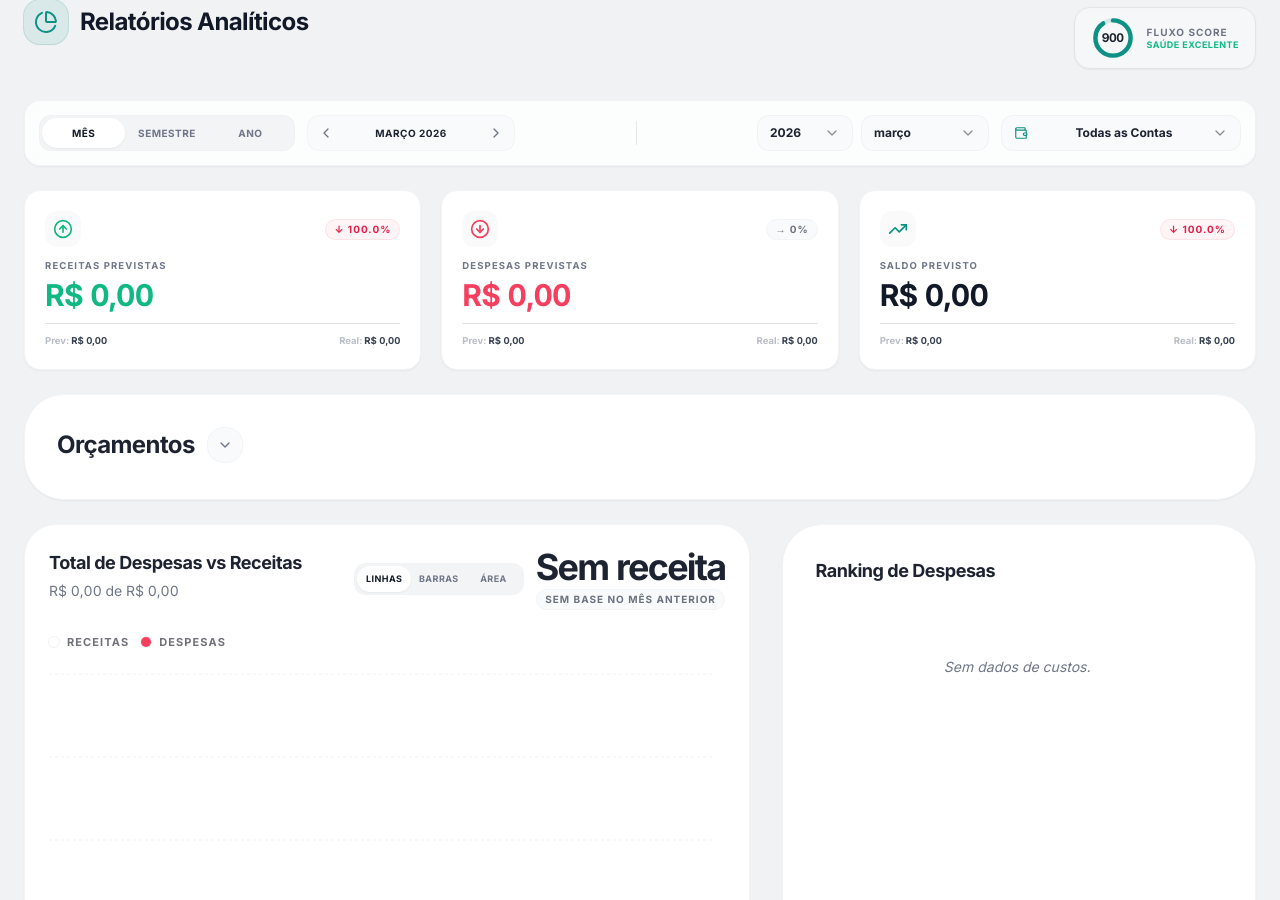
Test: ReportsDashboard - categoria de acordo › modo Semestre soma o semestre, compara com semestre anterior e oculta orcamentos mensais
Click the button "Semestre".
click(167, 133)  # box 125,122 -> 209,144
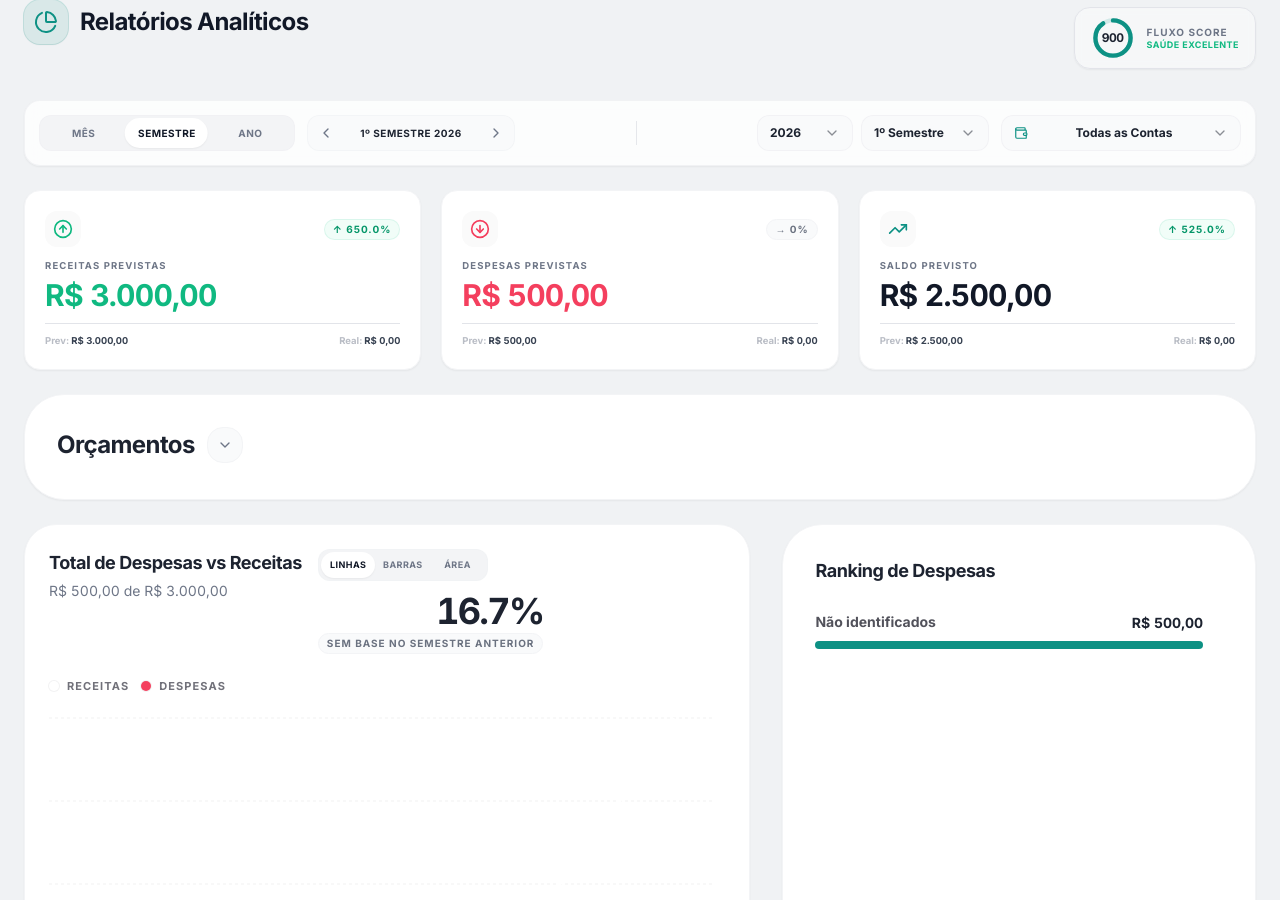
Check: the text "R$ 3.000,00" below "Receitas previstas" is shown, box 45,277 -> 217,313
Check: the text "R$ 500,00" below "Despesas previstas" is shown, box 462,277 -> 608,313
Check: the text "sem base no semestre anterior" is shown, box 327,636 -> 534,650
